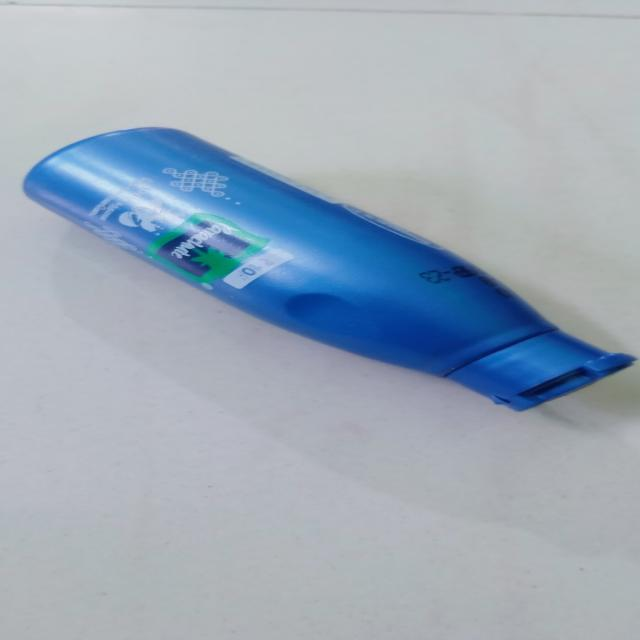oil: (15, 130, 640, 416)
